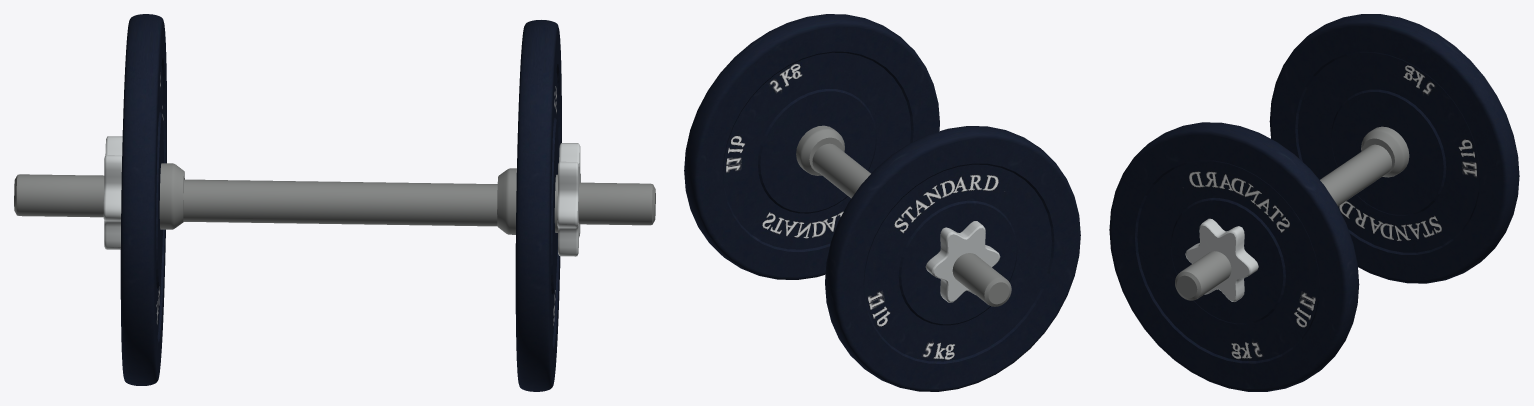
Rendered from Dumbell.glb.
3 renders of one model, left to right at view 1: azimuth 30°, elevation 25°; view 2: azimuth 150°, elevation 25°; view 3: azimuth 270°, elevation 25°, orthographic. The views are drawn at different scales.
Parts seen in each view (by area): view 1: defaultMaterial.018, defaultMaterial.016, defaultMaterial.017; view 2: defaultMaterial.018, defaultMaterial.016, defaultMaterial.017; view 3: defaultMaterial.018, defaultMaterial.016, defaultMaterial.017.
Part boxes in pixels (x1=…): defaultMaterial.018: x1=120, y1=14, x2=561, y2=391; defaultMaterial.016: x1=14, y1=163, x2=655, y2=234; defaultMaterial.017: x1=103, y1=136, x2=580, y2=256; defaultMaterial.018: x1=684, y1=14, x2=1080, y2=391; defaultMaterial.016: x1=796, y1=125, x2=1011, y2=306; defaultMaterial.017: x1=925, y1=221, x2=1000, y2=302; defaultMaterial.018: x1=1109, y1=14, x2=1519, y2=391; defaultMaterial.016: x1=1175, y1=126, x2=1409, y2=300; defaultMaterial.017: x1=1185, y1=218, x2=1258, y2=301.
Bounding box in the file's own units: 0.4394 × 0.2905 × 0.4178.
3 materials, 3 textured.
